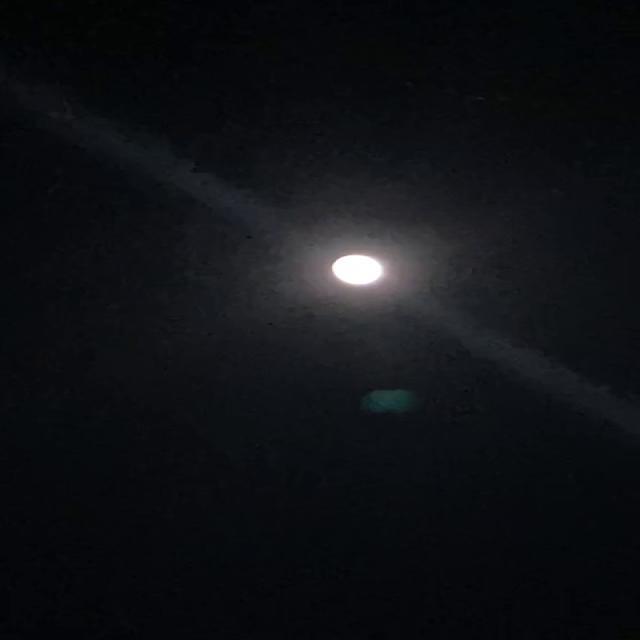moon: (278, 229, 405, 300)
